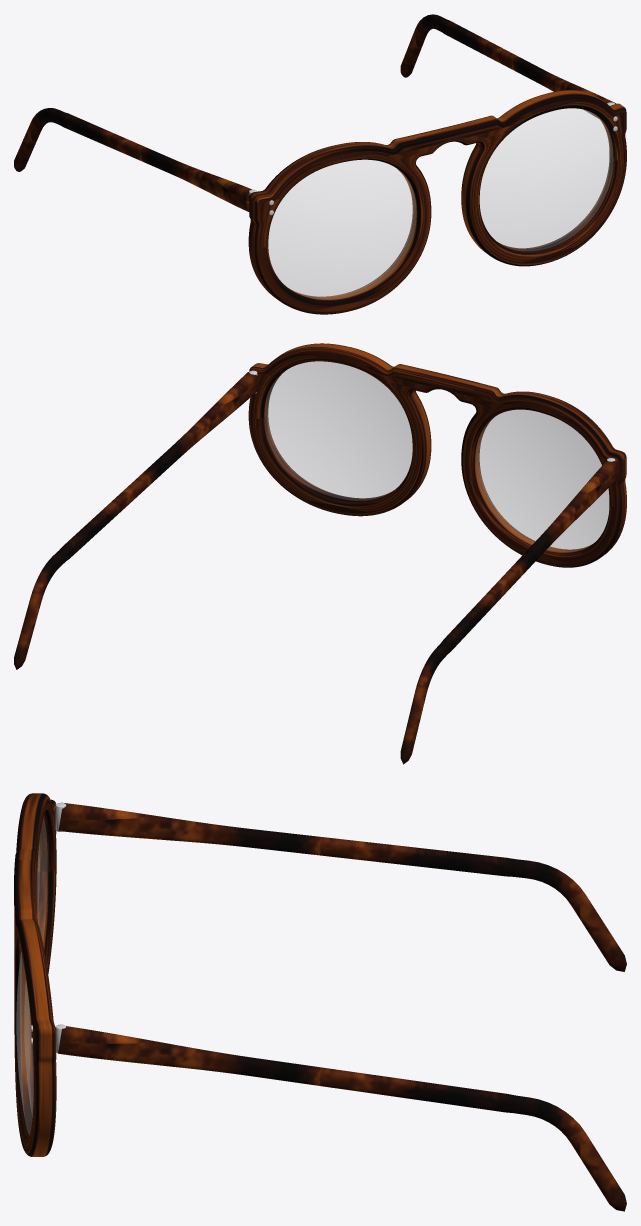
The model's file is milo-m.glb.
The picture shows the model from 3 angles, top to bottom: view 1: azimuth 30°, elevation 25°; view 2: azimuth 150°, elevation 25°; view 3: azimuth 270°, elevation 25°; orthographic projection. The views are drawn at different scales.
Parts seen in each view (by area): view 1: Front, Lens_R, Lens_L, Temple_R, Temple_L; view 2: Front, Lens_L, Lens_R, Temple_L, Temple_R; view 3: Front, Temple_L, Temple_R, Lens_L, Lens_R.
Part boxes in pixels (x1=…): Front: x1=248, y1=90, x2=626, y2=314; Lens_R: x1=268, y1=160, x2=416, y2=299; Lens_L: x1=480, y1=108, x2=613, y2=250; Temple_R: x1=14, y1=108, x2=251, y2=211; Temple_L: x1=400, y1=14, x2=615, y2=118; Front: x1=248, y1=343, x2=626, y2=567; Lens_L: x1=264, y1=361, x2=412, y2=500; Lens_R: x1=476, y1=410, x2=608, y2=551; Temple_L: x1=14, y1=372, x2=258, y2=669; Temple_R: x1=400, y1=461, x2=618, y2=764; Front: x1=14, y1=793, x2=66, y2=1156; Temple_L: x1=58, y1=1026, x2=626, y2=1211; Temple_R: x1=58, y1=802, x2=626, y2=971; Lens_L: x1=16, y1=952, x2=33, y2=1134; Lens_R: x1=37, y1=819, x2=47, y2=940.
Bounding box in the file's own units: 0.1337 × 0.0561 × 0.1414.
4 materials, 2 textured.
